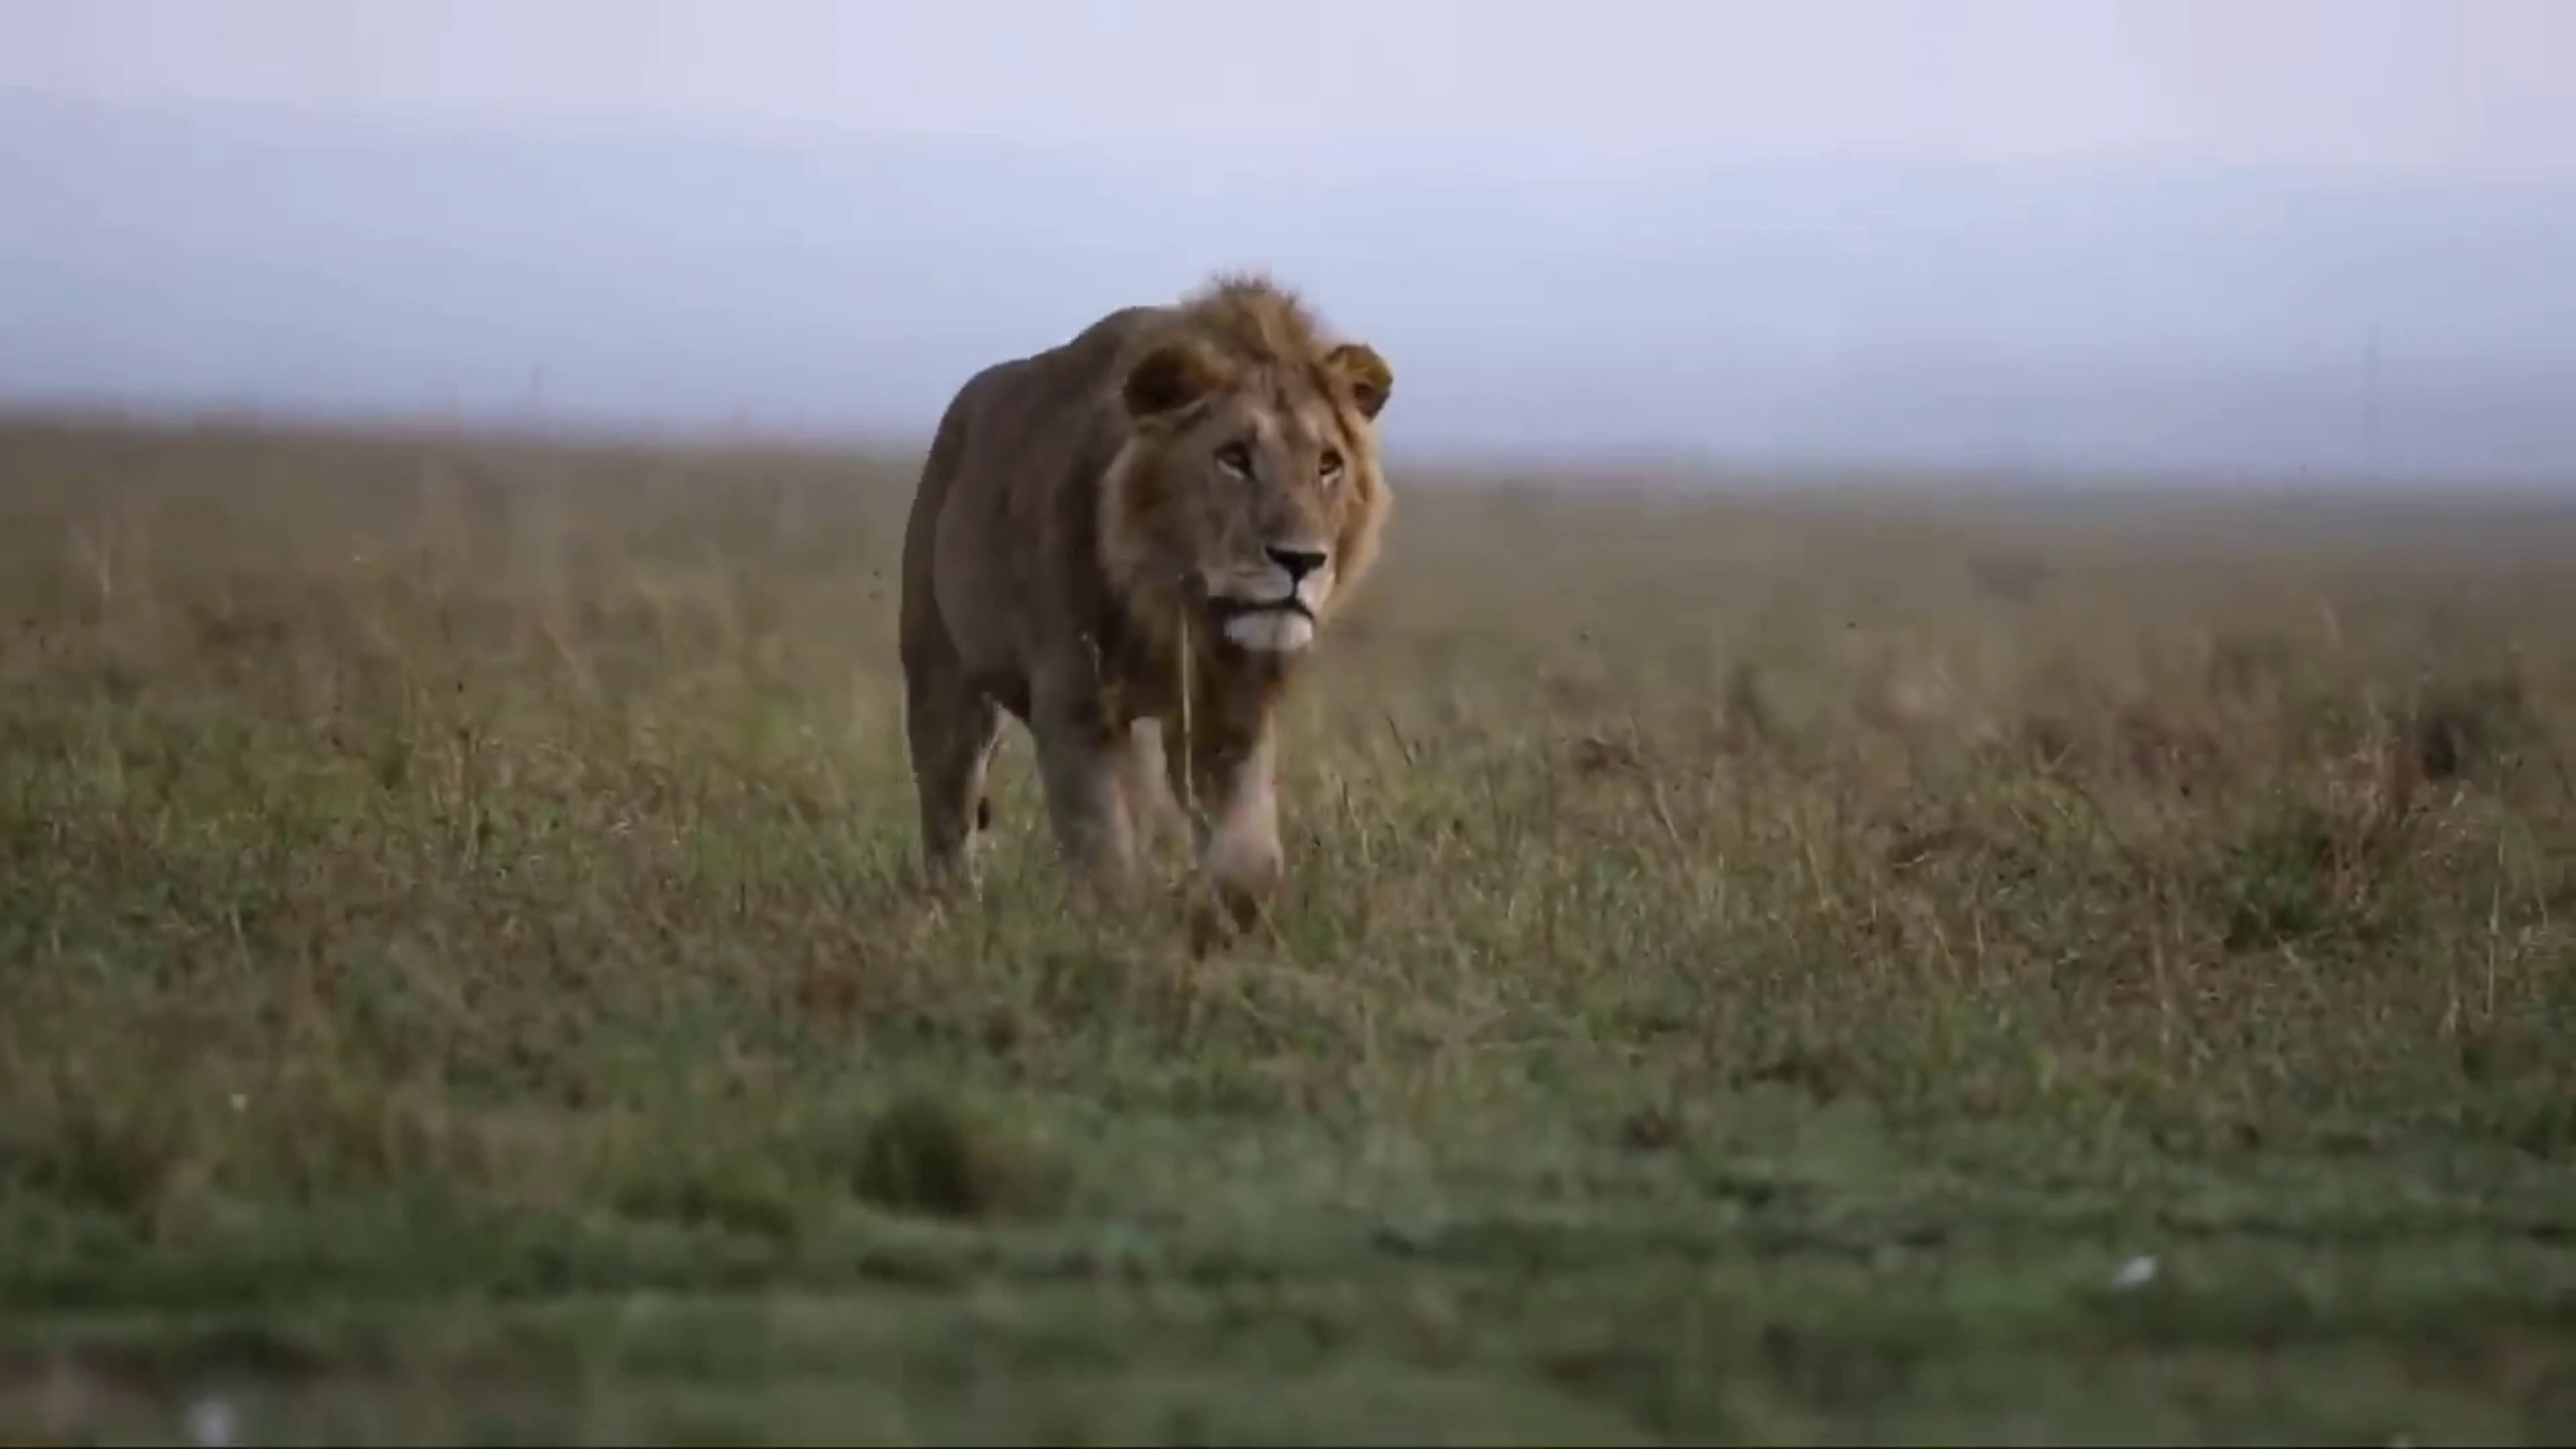Lion: (897, 267, 1394, 909)
